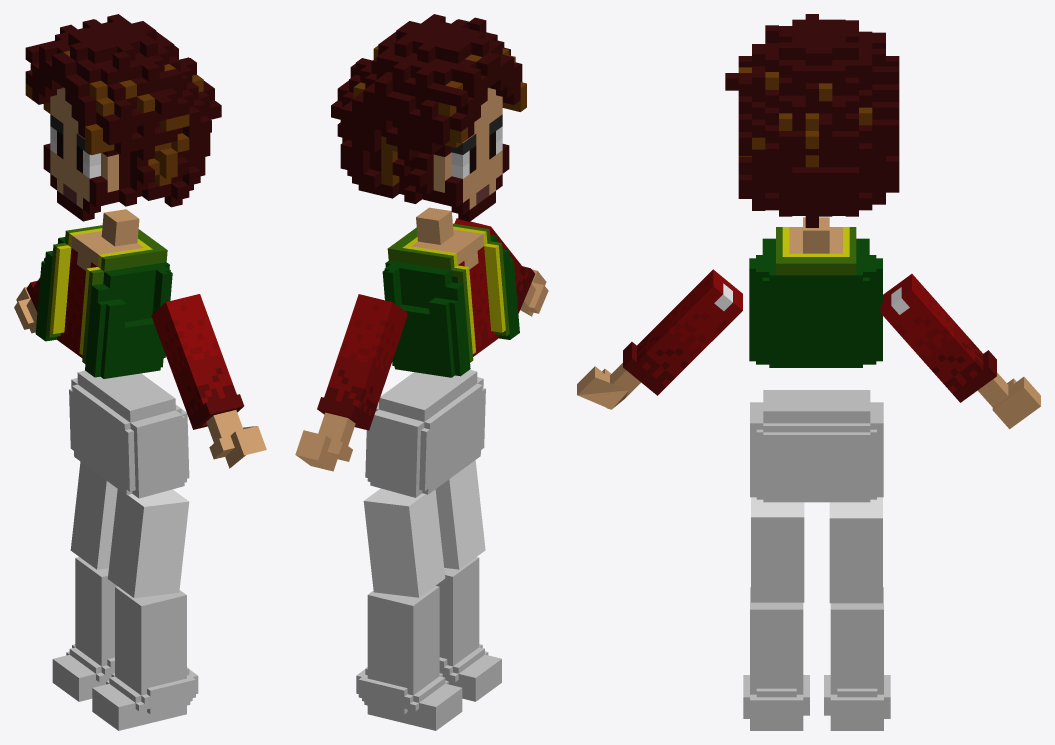
Rendered from Idle3.fbx.
The picture shows the model from 3 angles, left to right: view 1: azimuth 30°, elevation 25°; view 2: azimuth 150°, elevation 25°; view 3: azimuth 270°, elevation 25°; orthographic projection.
Parts seen in each view (by area): view 1: Idle3; view 2: Idle3; view 3: Idle3.
Part boxes in pixels (x1,y1,x2,y2): Idle3: (14,14,266,730); Idle3: (295,14,548,730); Idle3: (577,14,1040,730).
Size of the model in its own units: 48.63 by 226 by 141.
